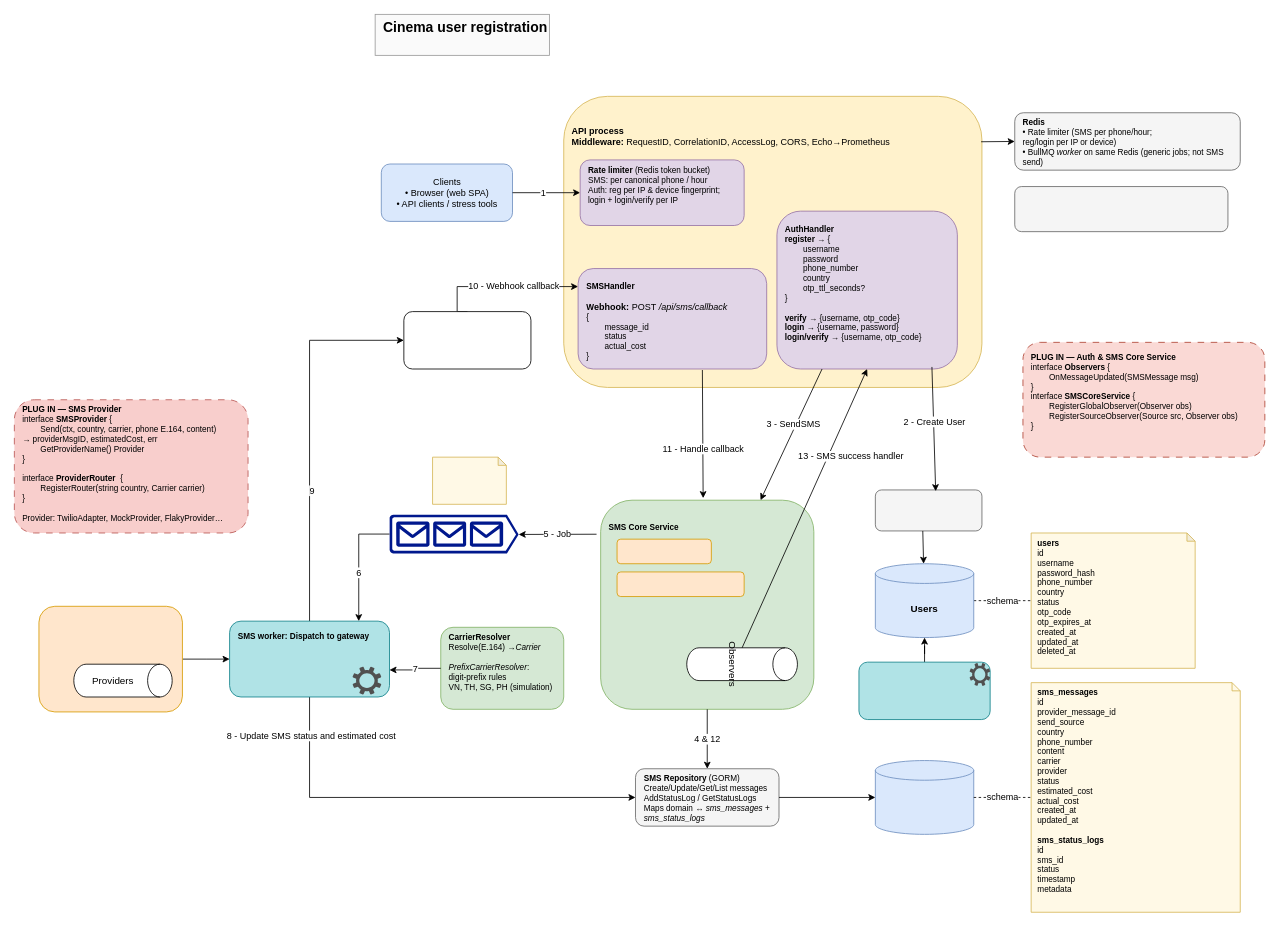
The diagram is 1279 pixels wide and 927 high, and some of its shapes have lost their labels. The box of each missing label's shape, as (x1, y1, x2, y2) in pixels:
jobs messageID requestID correlationID: (432, 456, 506, 504)
Message status recovery: (616, 571, 744, 597)
Prometheus / Grafana / Loki (metrics scrape, log aggregation): (1014, 186, 1228, 232)
ProviderRouter (country ISO, Carrier) → Provider Rules for VN, TH, SG, PH: (38, 605, 182, 712)
SendSMS: (616, 538, 711, 564)
SMS: (875, 760, 974, 834)
SMS provider (External): (403, 311, 531, 369)
UserRepository CRUD User + OTP fields: (875, 489, 982, 531)
Users worker - OTP expired cron job: (858, 661, 990, 720)
